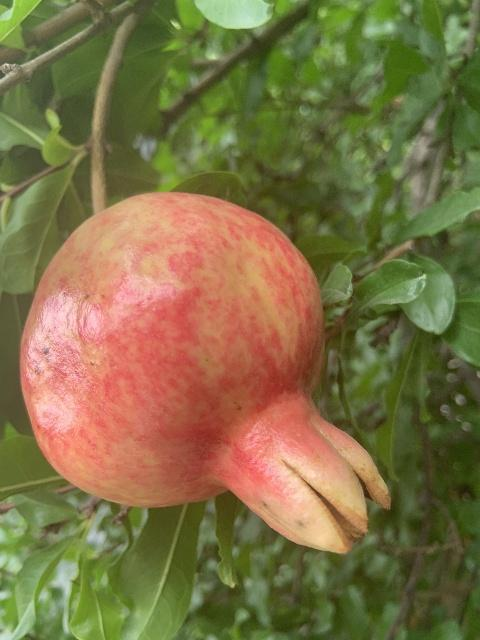ripe: (19, 191, 390, 554)
